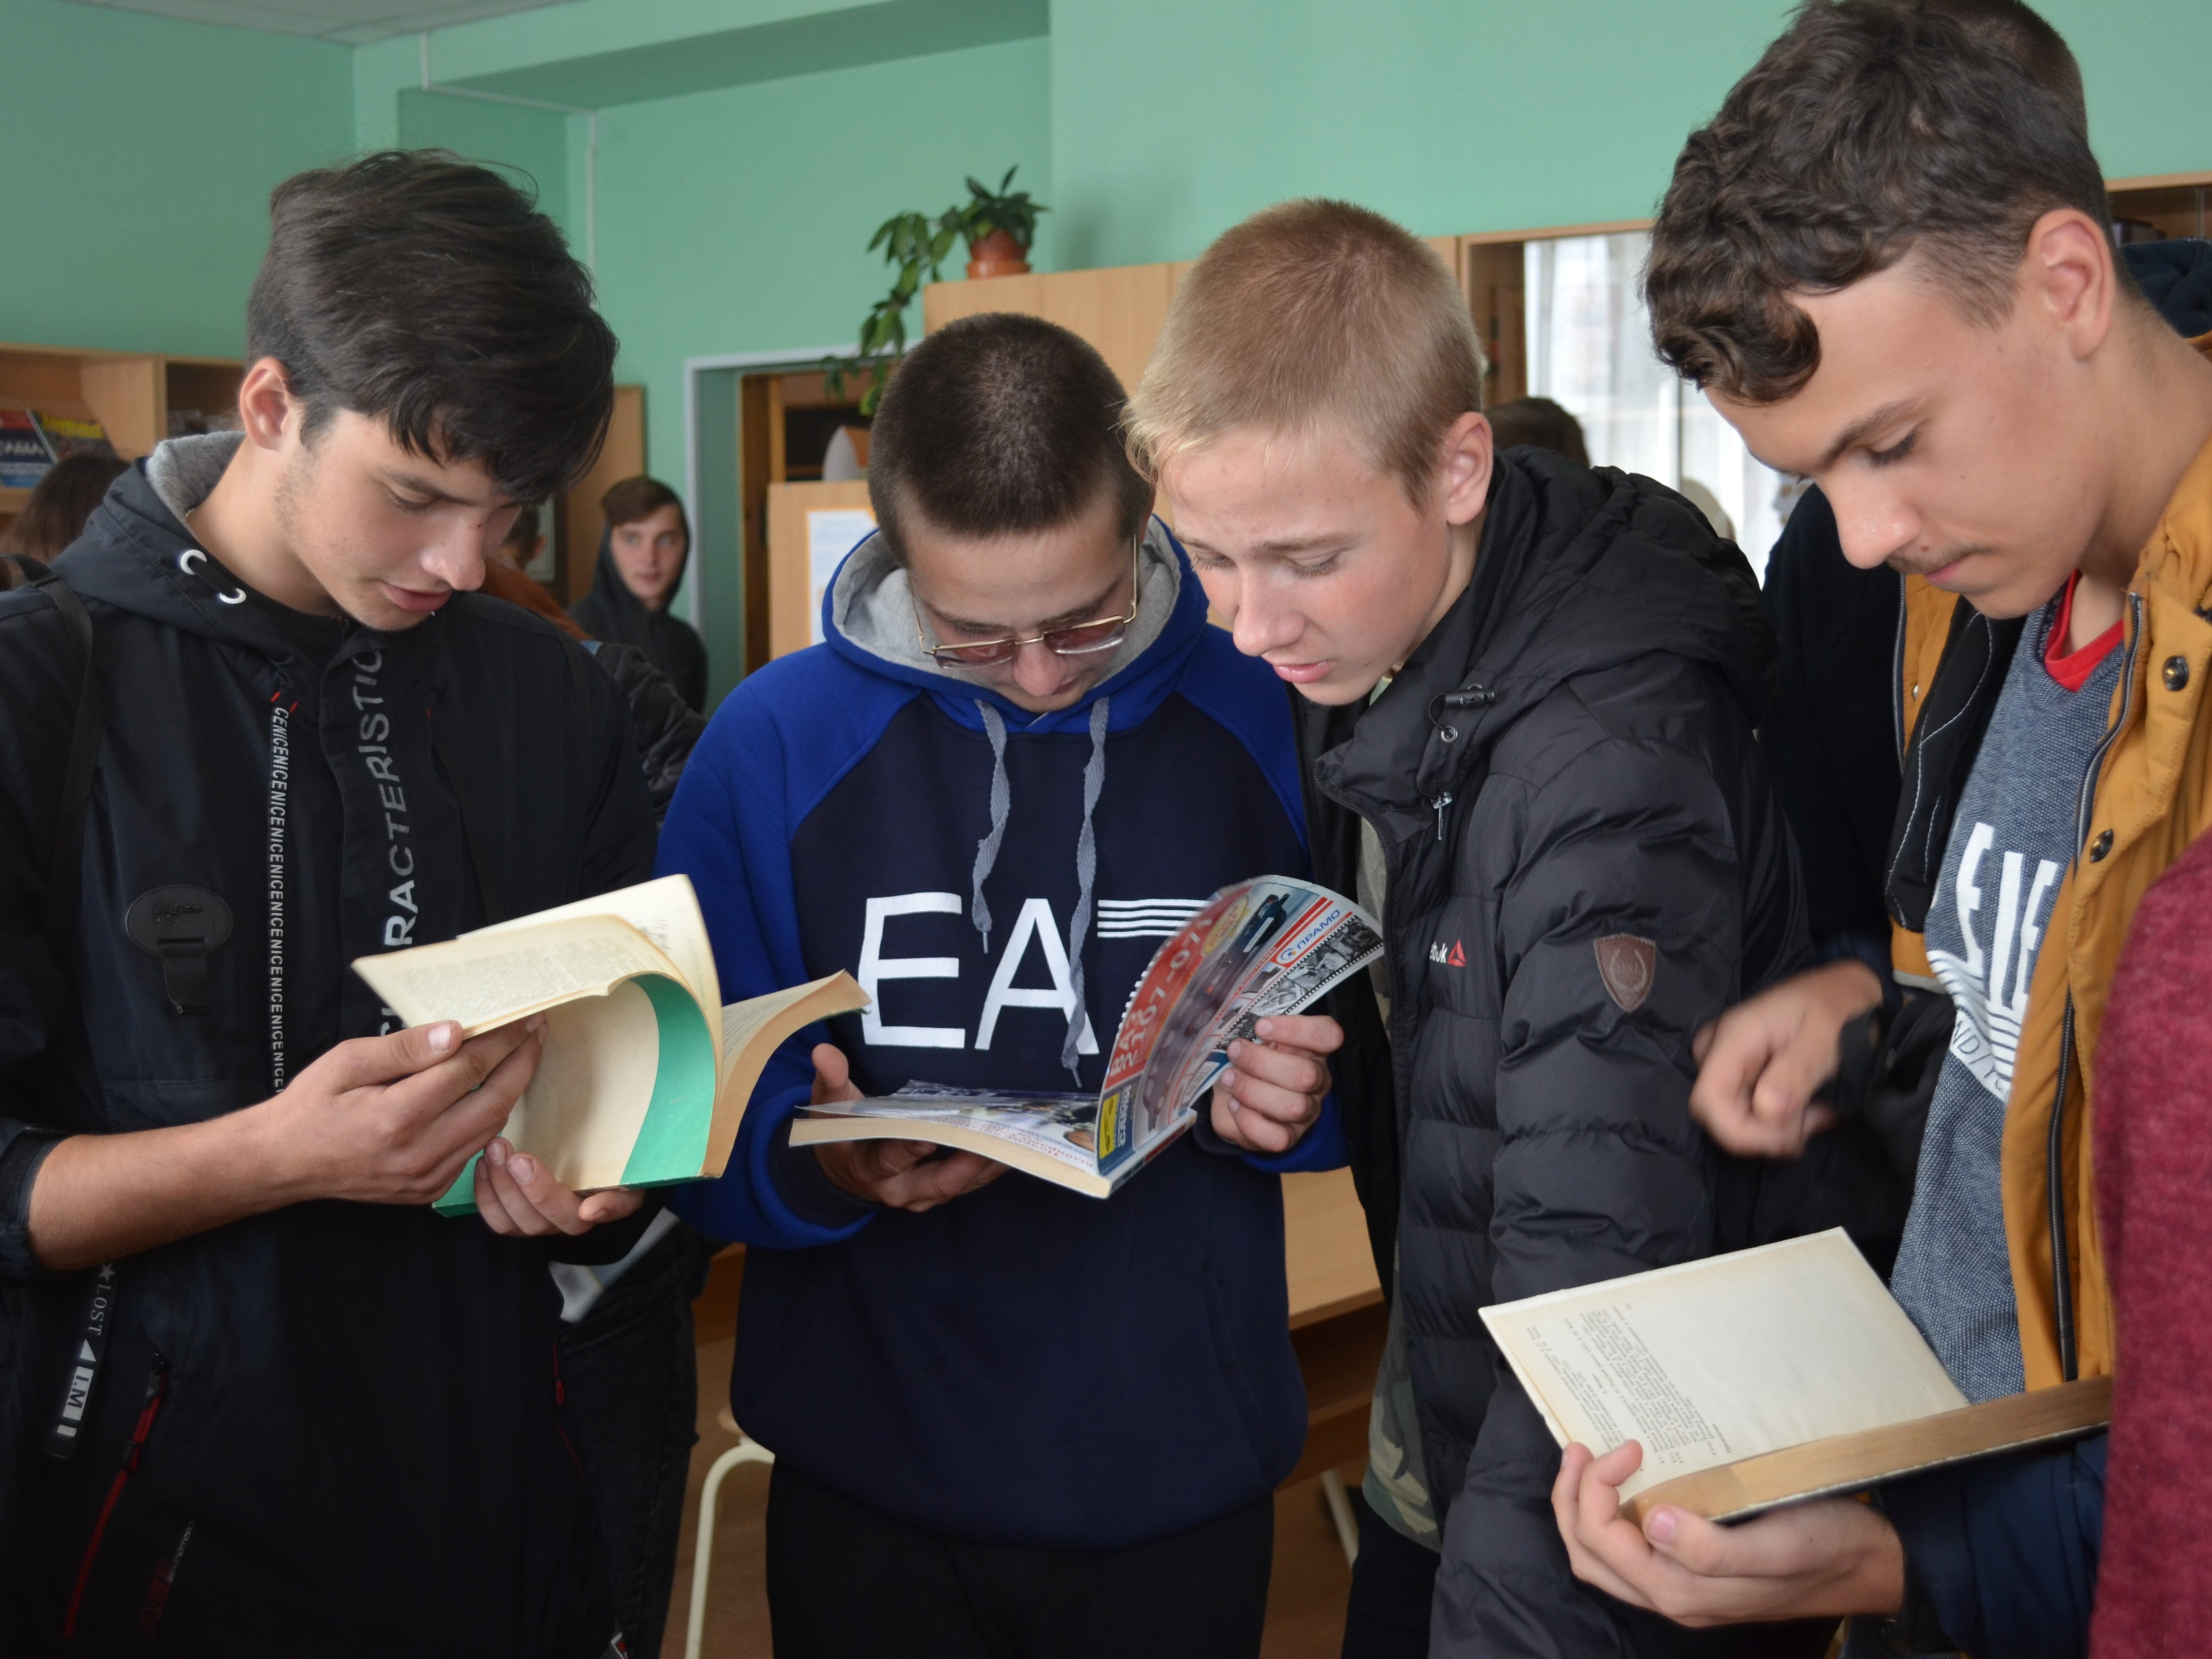students: (1547, 1, 2208, 1648), (3, 147, 638, 1642), (1122, 190, 1760, 1654), (660, 300, 1347, 1646), (577, 480, 721, 813)
